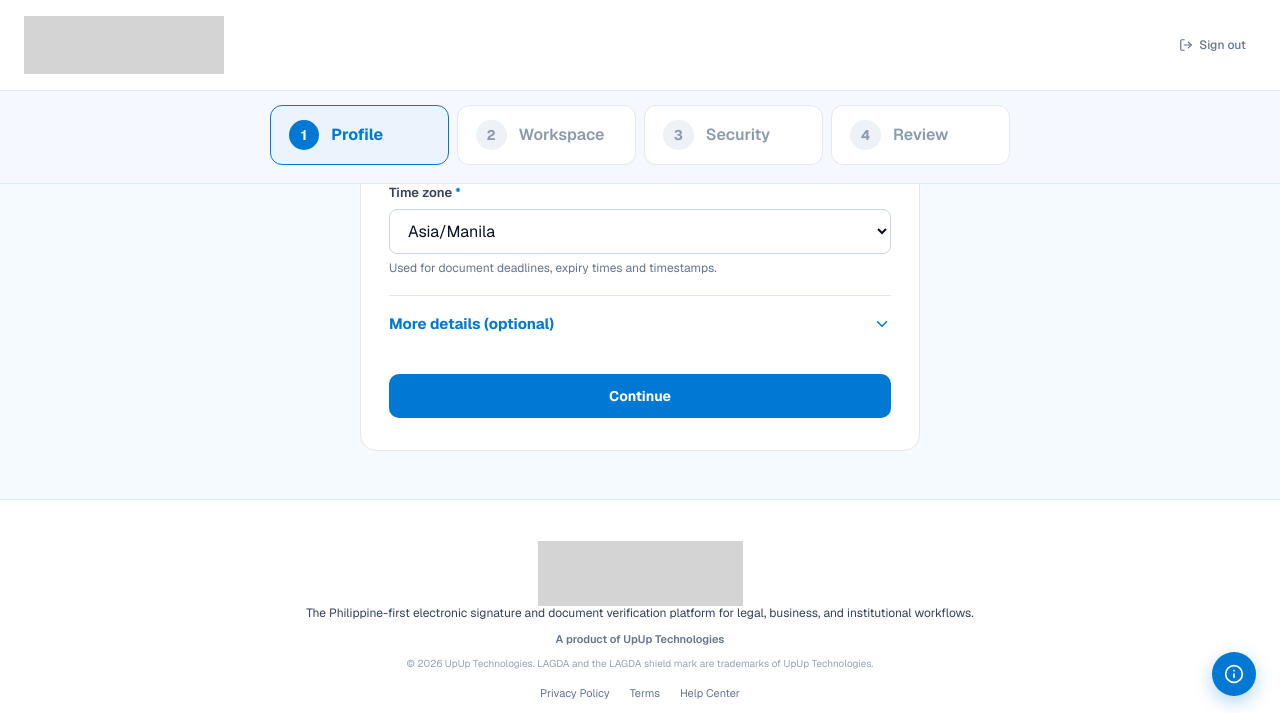
Test: Profile step › requires full name and display name before saving anything
(page scrolled)
What coordinates should you click on to do the following:
click the button "Continue"
I would click on:
 (640, 396)
Its box is [389,374,891,418].
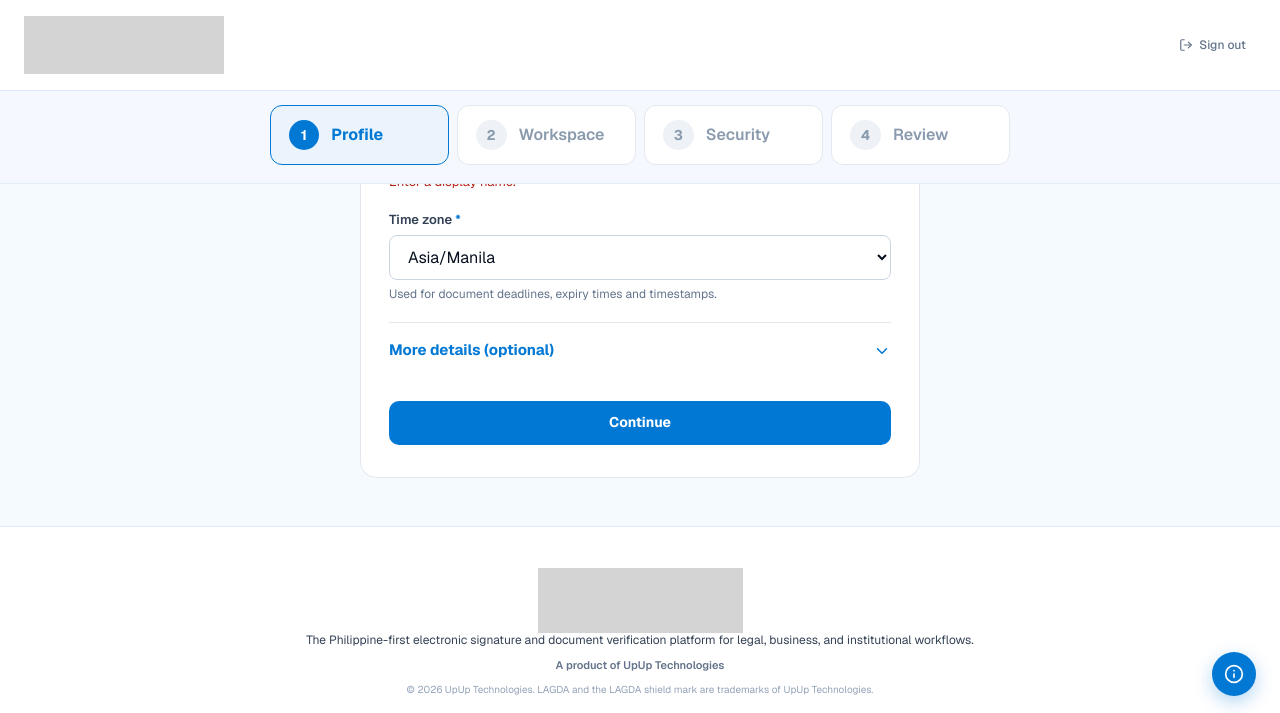
Check: the text "Enter a display name." is shown, box [389,173,516,190]
